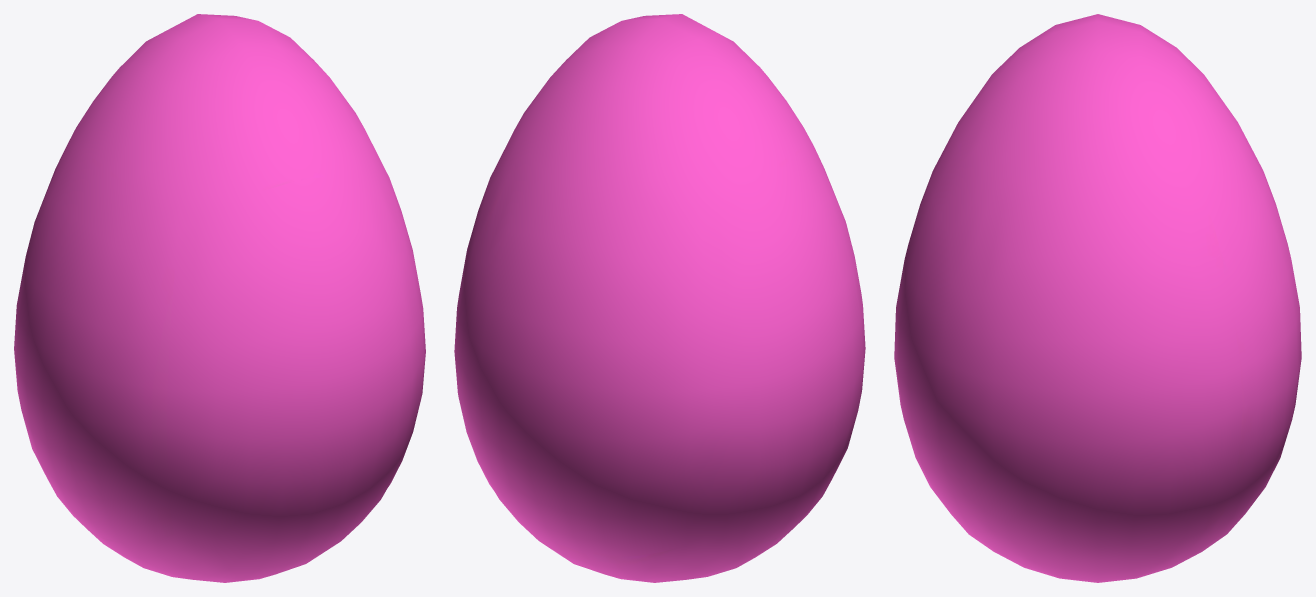
Rendered from chocolateegg_pink.glb.
3 renders of one model, left to right at view 1: azimuth 30°, elevation 25°; view 2: azimuth 150°, elevation 25°; view 3: azimuth 270°, elevation 25°, orthographic.
Parts seen in each view (by area): view 1: ChocolateEgg_LOD0; view 2: ChocolateEgg_LOD0; view 3: ChocolateEgg_LOD0.
Part boxes in pixels (x1,y1,x2,y2): ChocolateEgg_LOD0: (14,14,425,582); ChocolateEgg_LOD0: (454,14,865,582); ChocolateEgg_LOD0: (894,14,1301,582).
Bounding box in the file's own units: 0.1713 × 0.2519 × 0.1713.
Materials: 1 (1 with a texture image).
